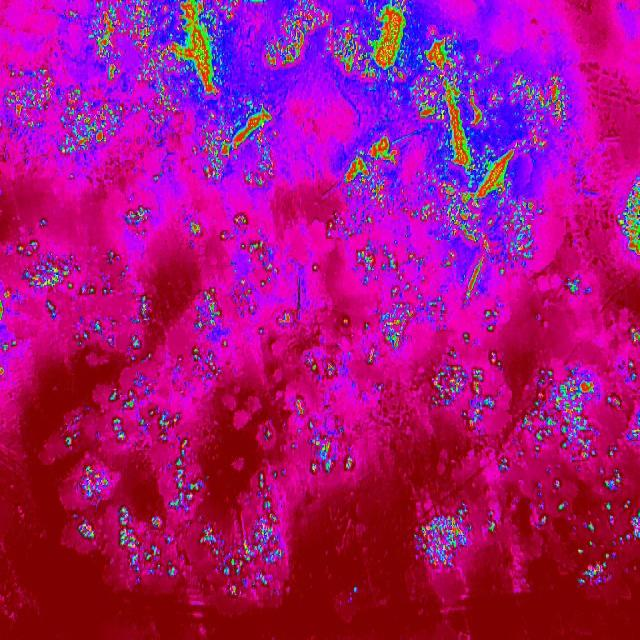fire: (333, 0, 565, 302), (61, 337, 292, 606), (68, 0, 331, 195), (497, 328, 640, 586), (117, 202, 310, 336), (0, 214, 116, 380), (362, 301, 502, 434), (0, 55, 130, 159), (286, 358, 361, 478), (411, 501, 499, 567), (617, 174, 640, 258), (560, 270, 585, 298), (350, 586, 358, 596)
